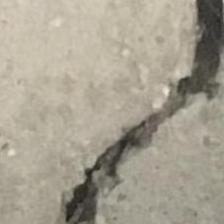Crack: (65, 0, 224, 223)
